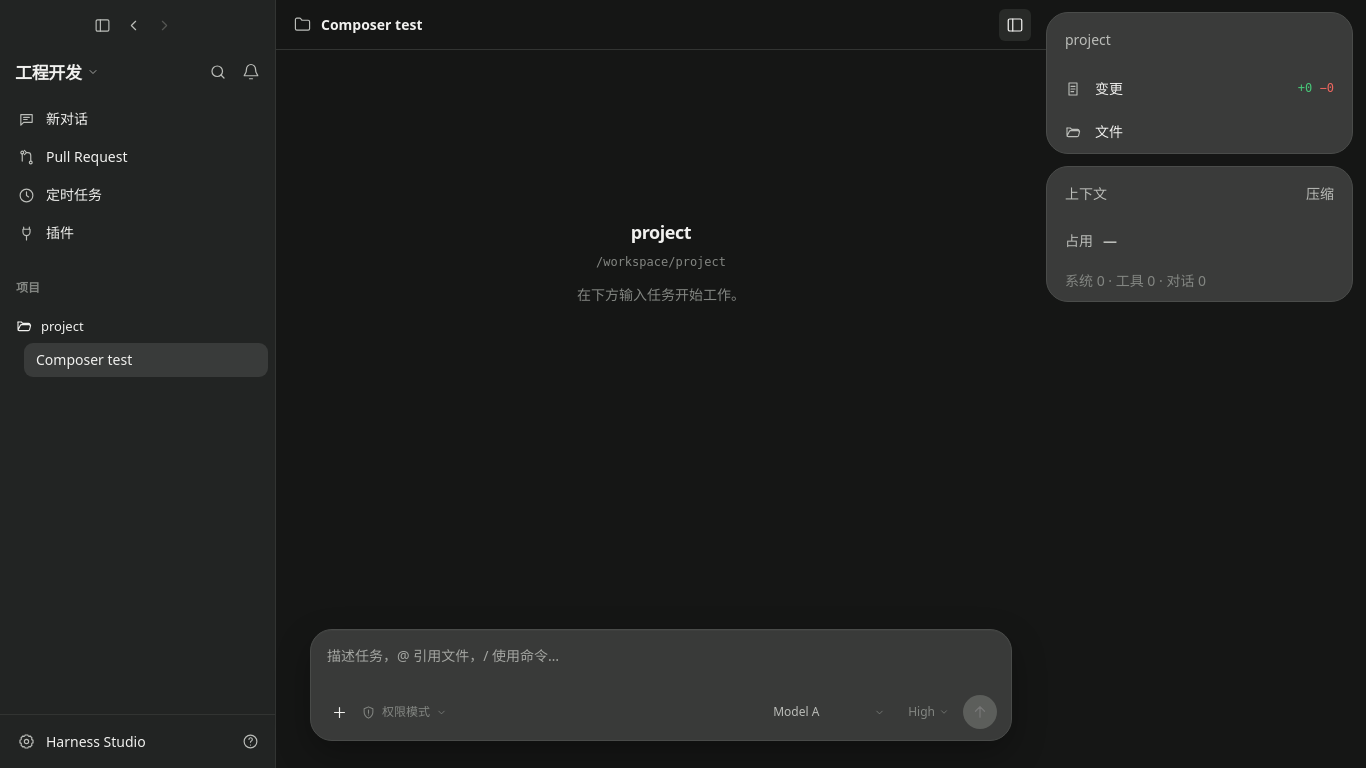
Scenario: structured composer entities › offers only the reasoning efforts declared by the active model
This screenshot has width=1366, height=768.
Click the button "High". click: (929, 712)
box: [903,697,954,727]
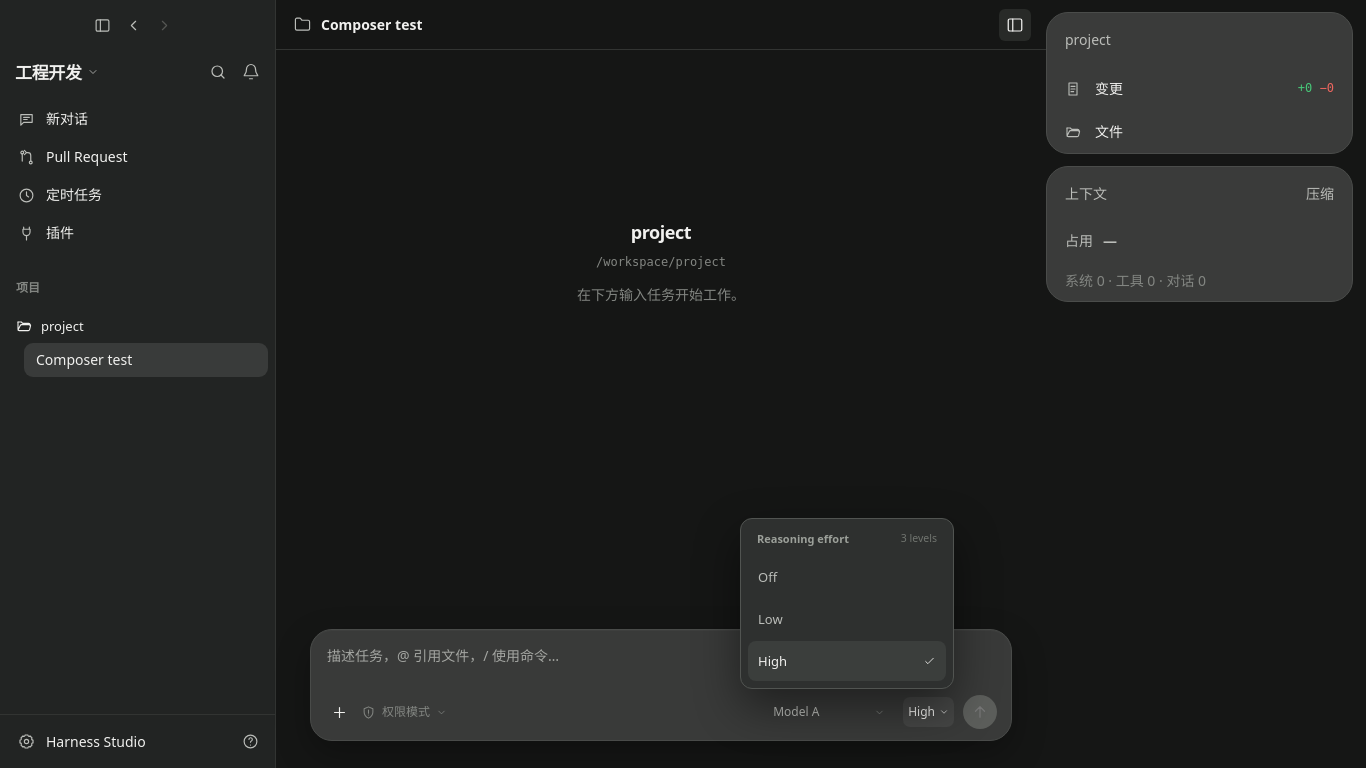
Check: the button "Off" is shown, box [748,557,946,597]
Check: the button "Low" is shown
Click the button "Low". click: (847, 619)
box: [748,599,946,639]
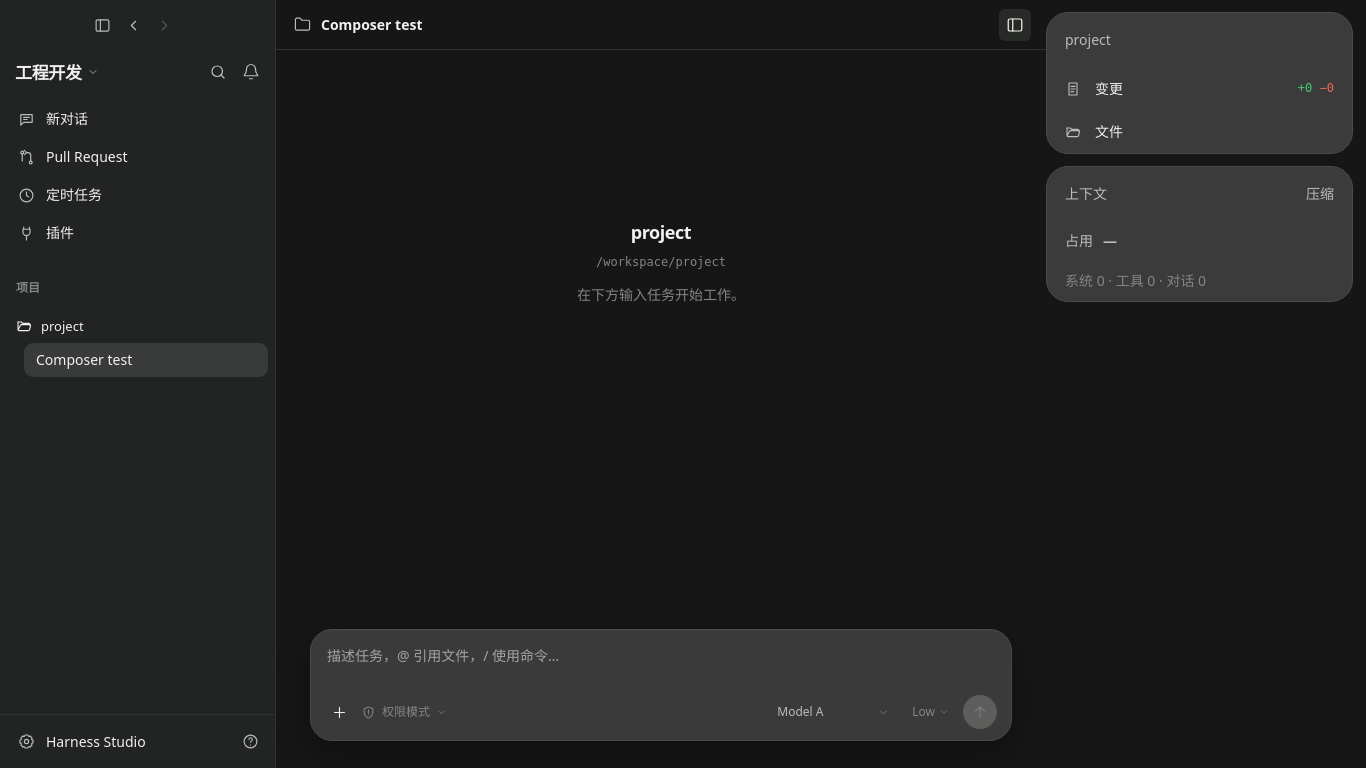
Click the button "Model A". click: (832, 712)
box: [766,695,898,729]
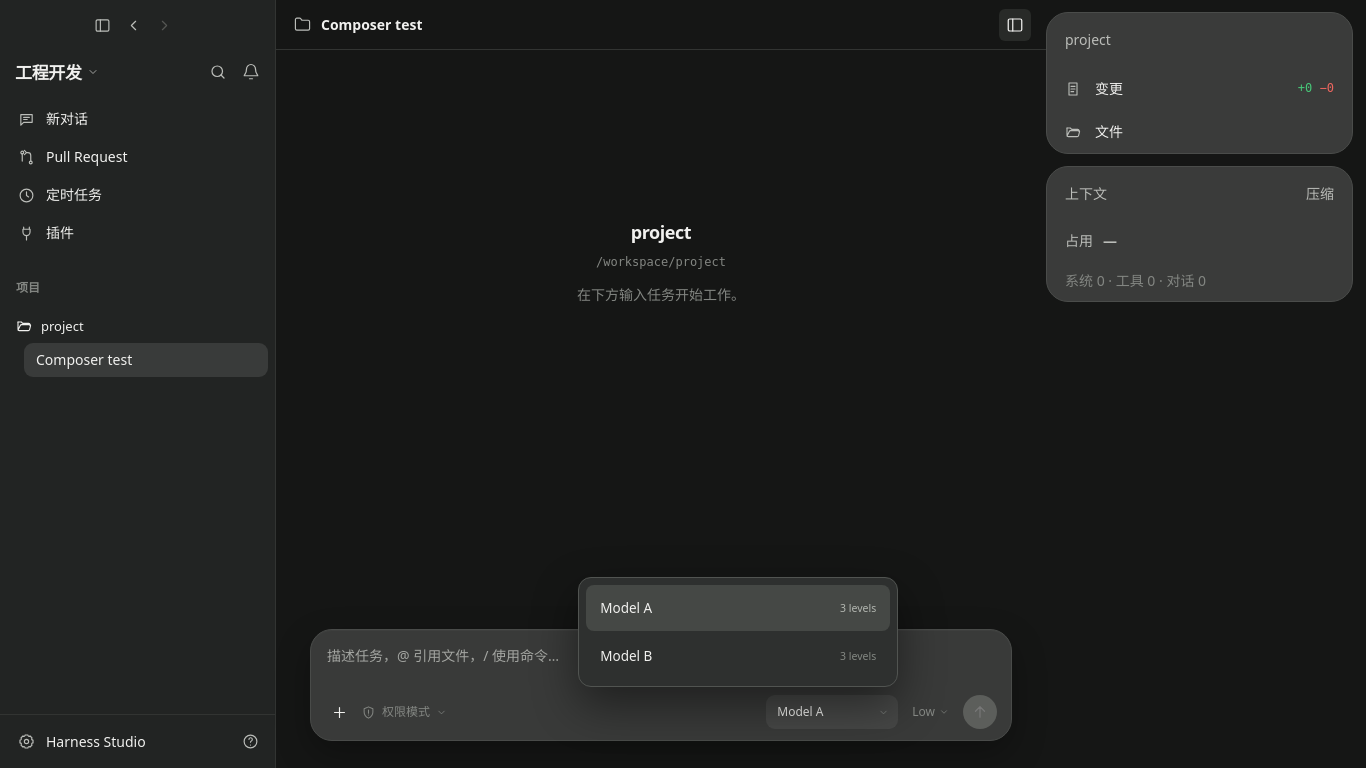
Click the button "Model B 3 levels". click: (626, 656)
box: [586,633,890,679]
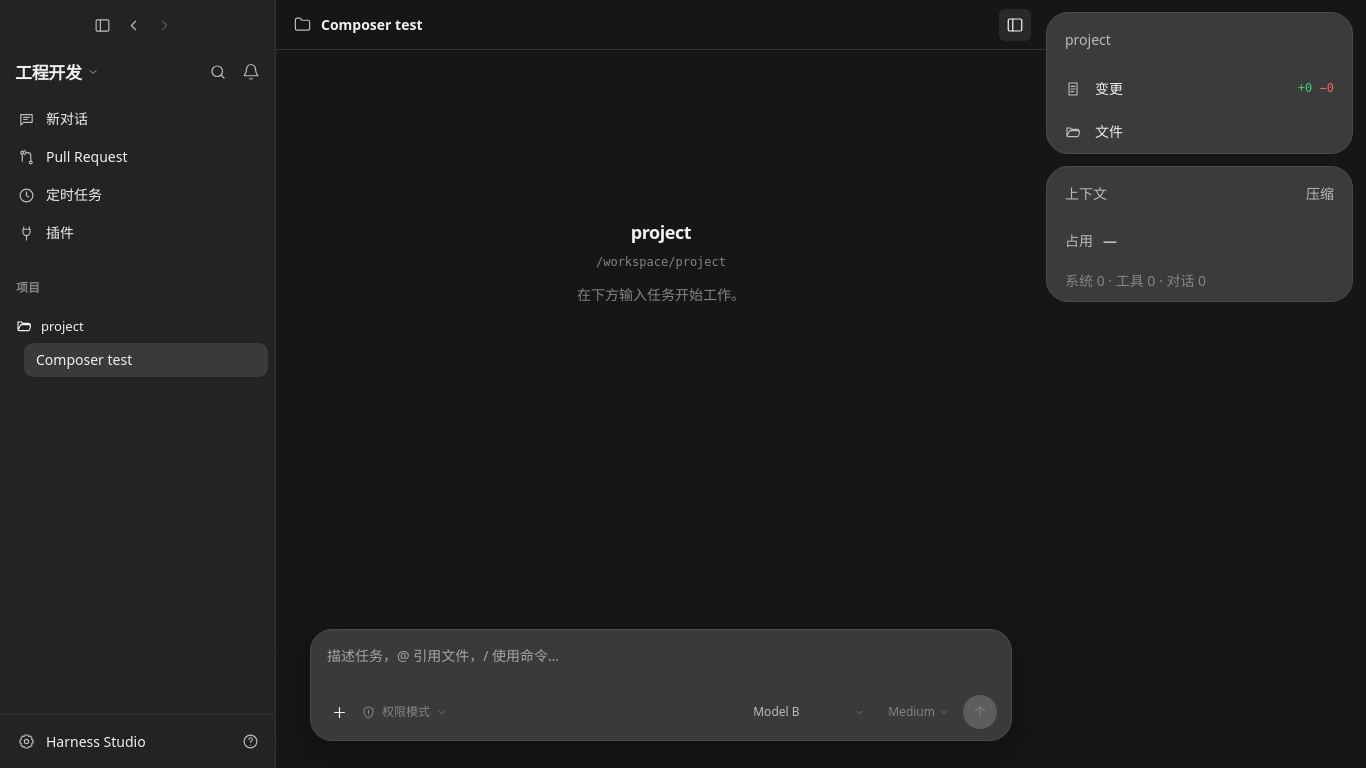
Check: the button "Medium" is shown
Click the button "Medium". click: (919, 712)
box: [883,697,954,727]
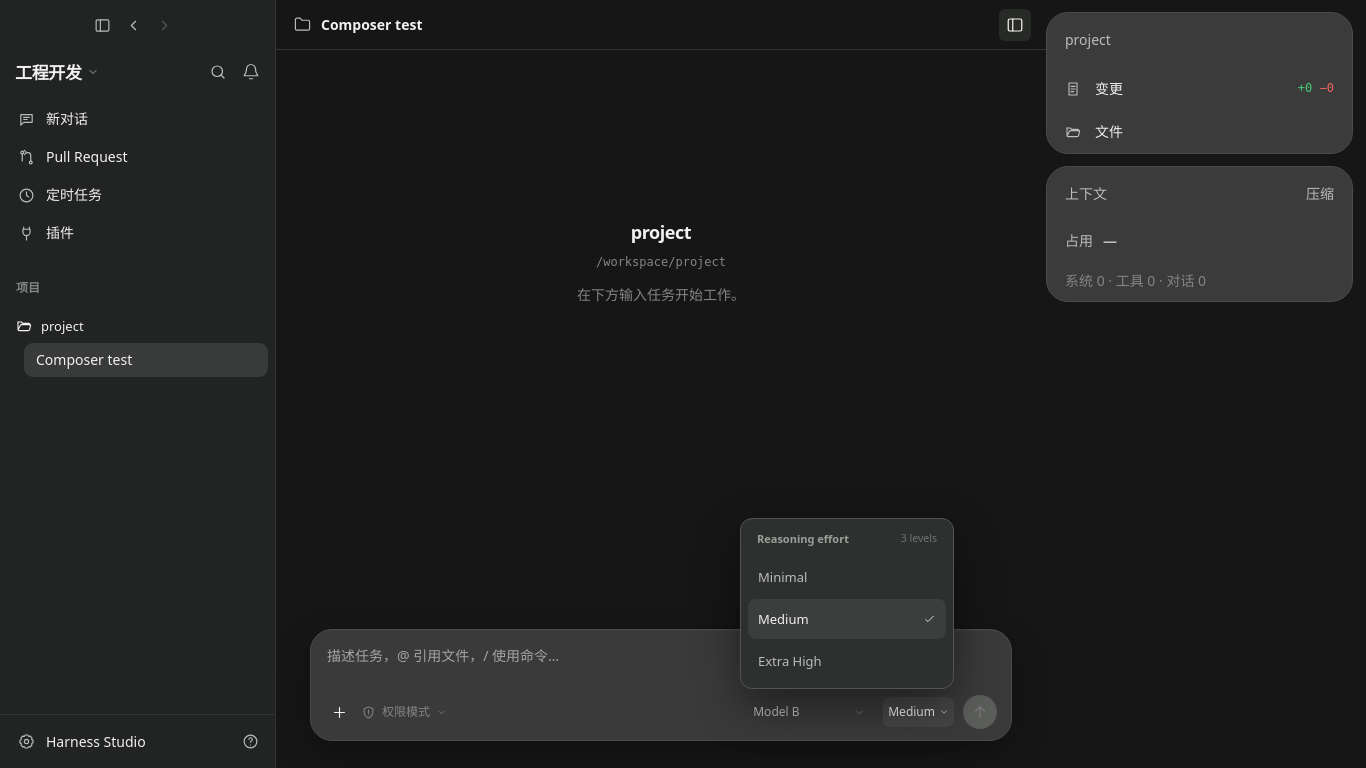
Check: the button "Low" is not shown
Check: the button "Minimal" is shown, box [748,557,946,597]
Check: the button "Extra High" is shown, box [748,641,946,681]
